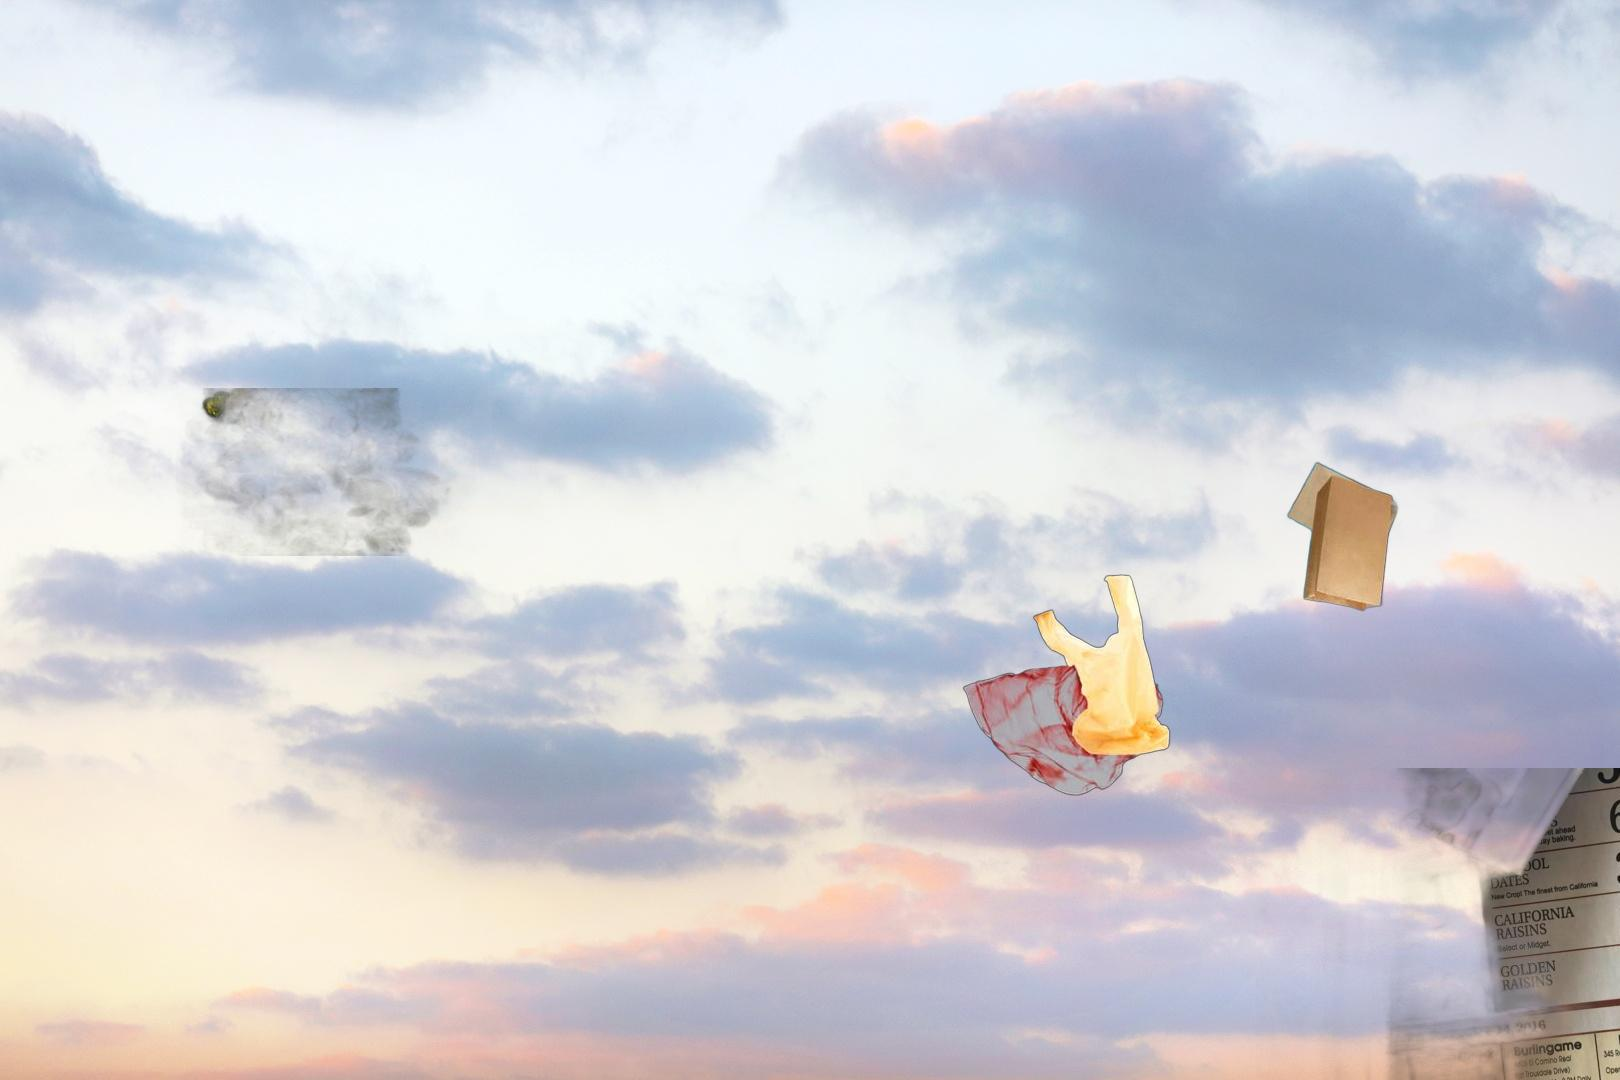biological: (176, 388, 476, 556)
paper: (1256, 768, 1620, 1080)
paper-bag: (1285, 444, 1401, 614)
plastic-bag: (959, 573, 1173, 798)
